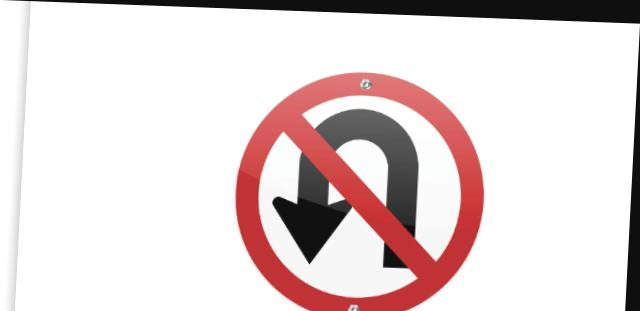not_u_turn_left: (231, 66, 494, 311)
